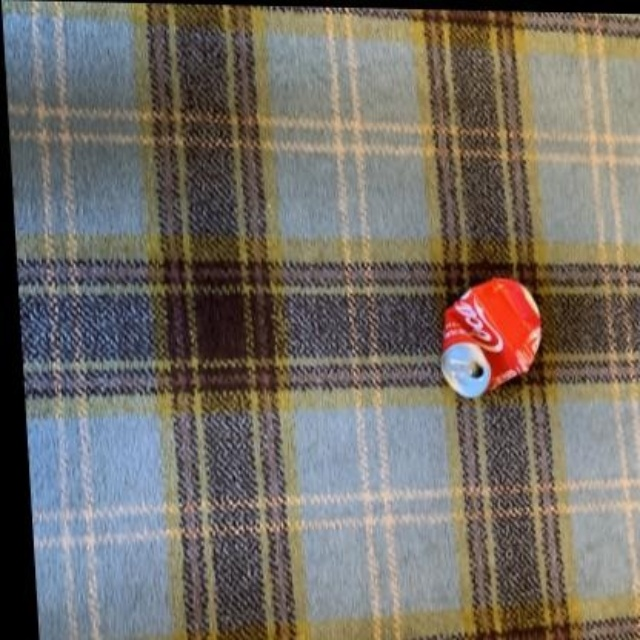trash: (442, 278, 540, 397)
